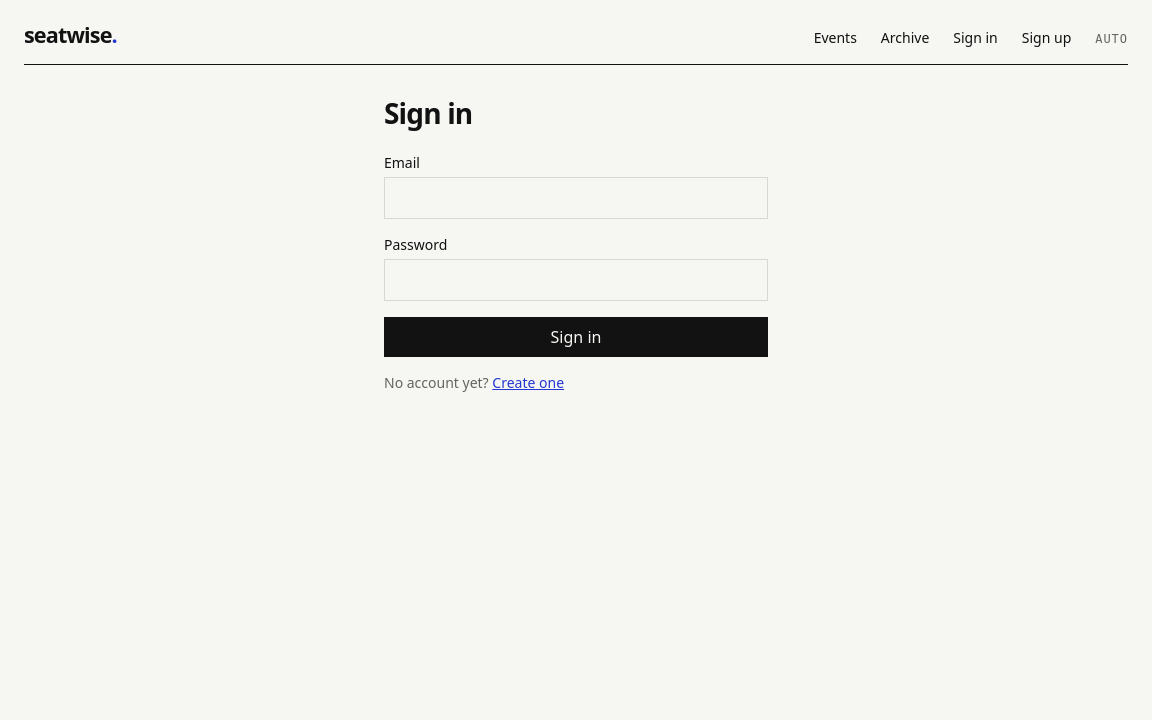
Test: login page › signs in and returns to the home page
The width and height of the screenshot is (1152, 720).
Type "ana@example.com" into the field labelled "Email" at (576, 198), box [384,178,768,220]
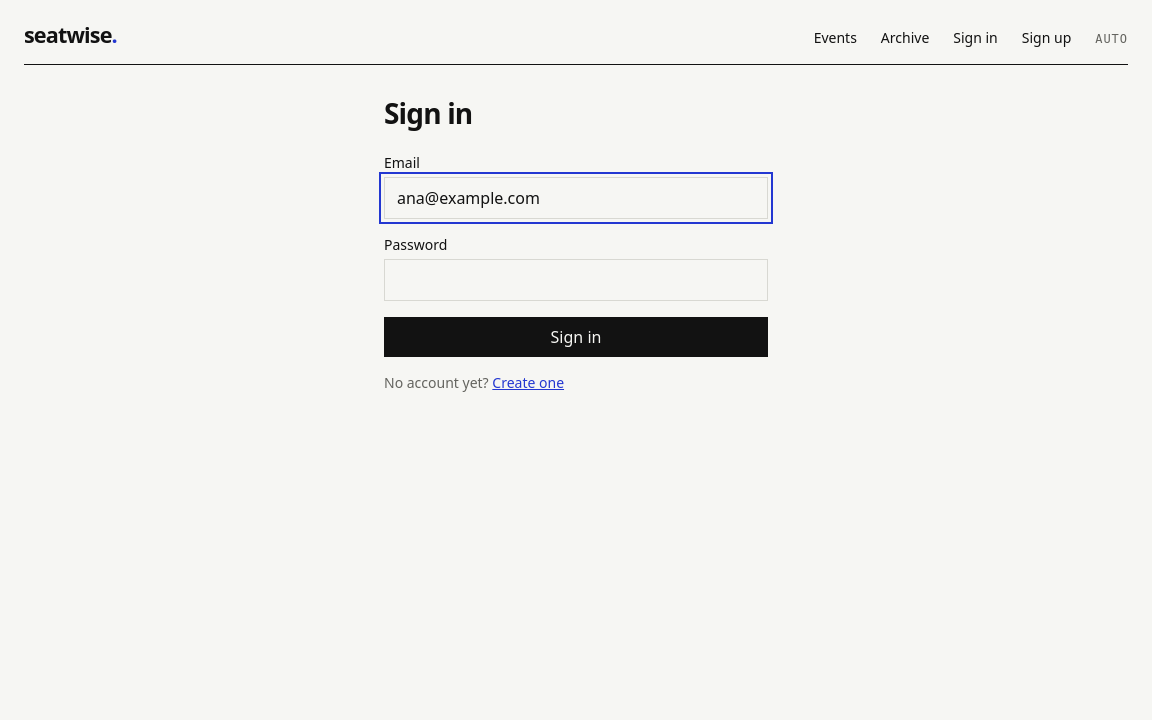
Type "long-enough-password" into the password field labelled "Password" at (576, 280), box [384,260,768,302]
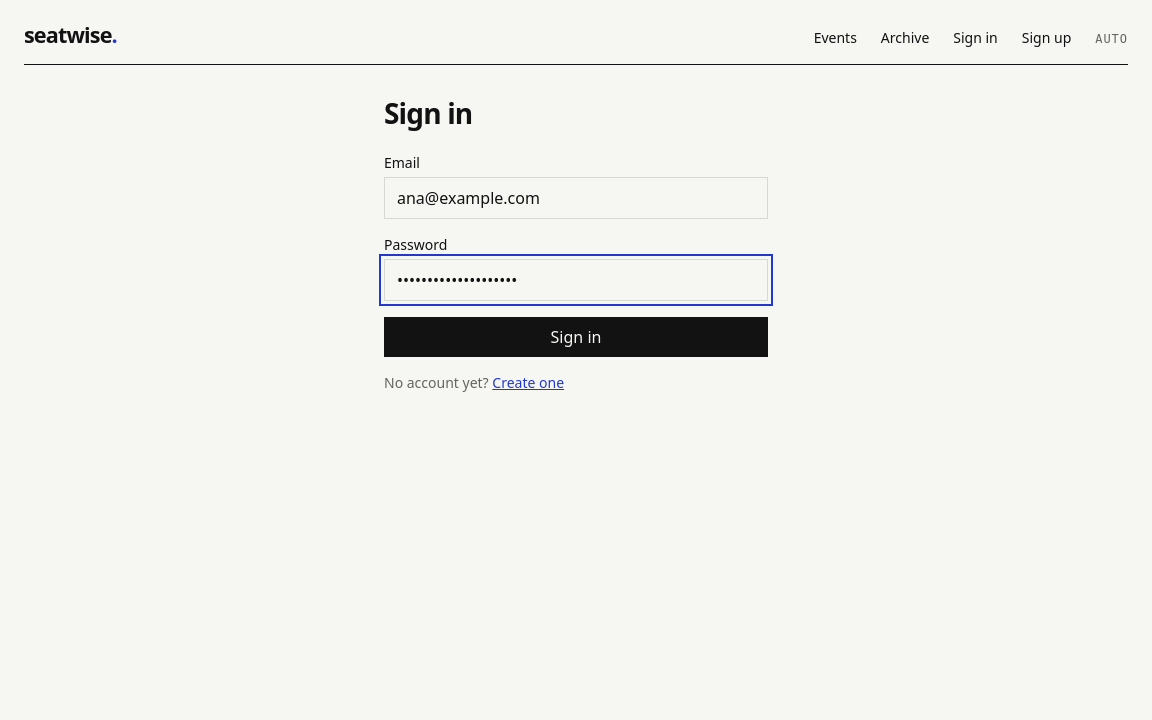
Click the button "Sign in" at (576, 338), box [384,318,768,358]
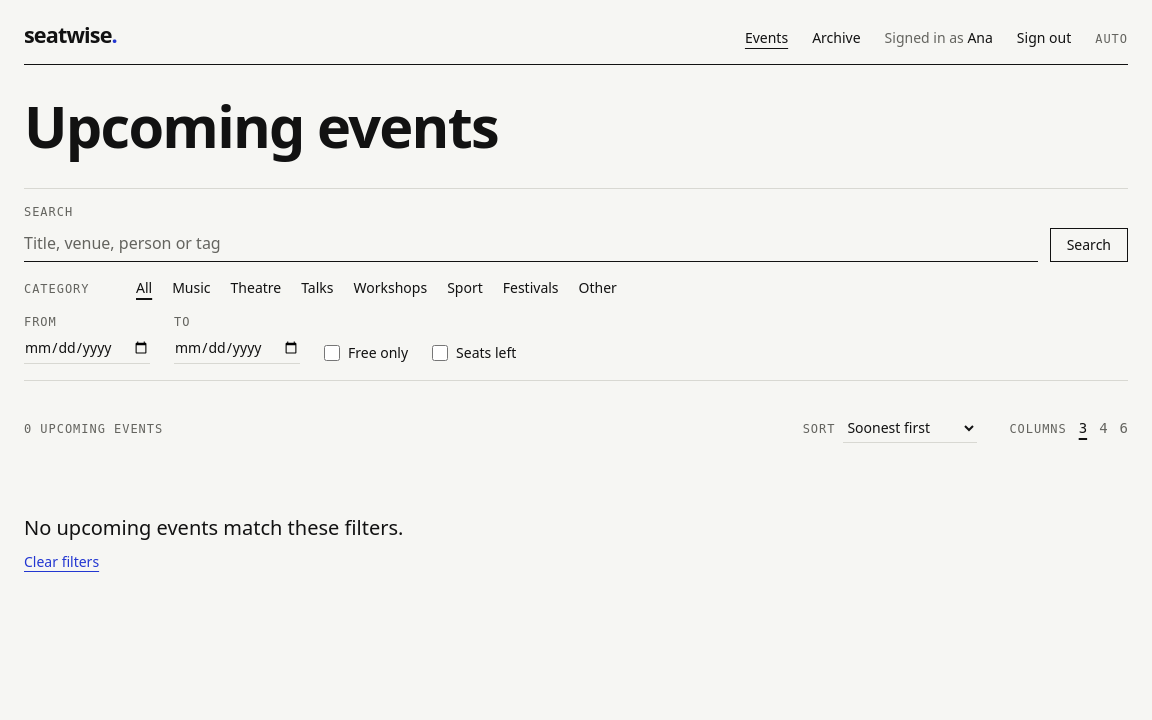
Check: the text "Ana" is shown, box [967,28,993,47]
